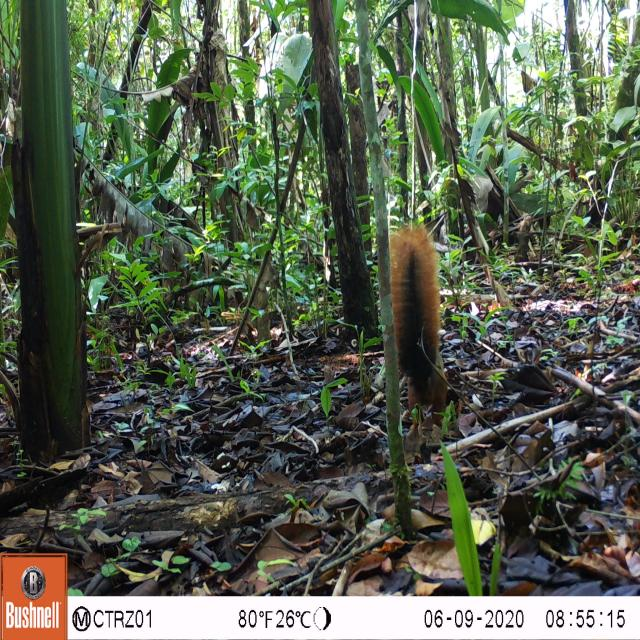Squirrel: (374, 219, 474, 438)
